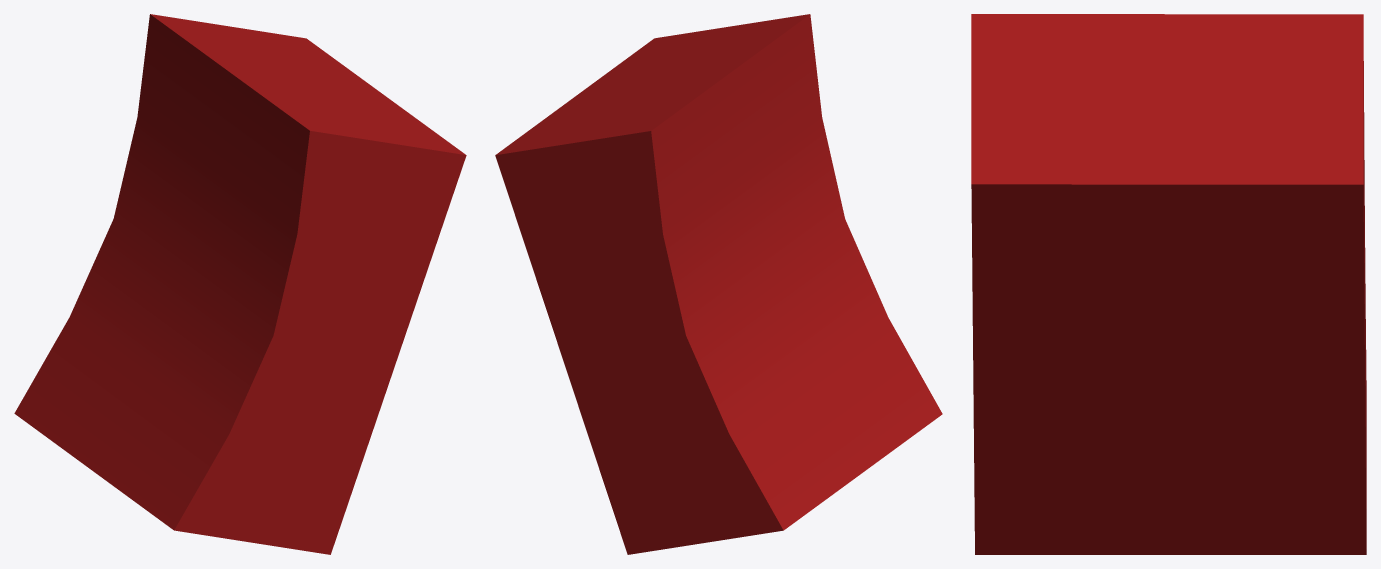
File: knopka2.002_material.010_0_lev1.glb
3 views of the same model, side by side, from view 1: azimuth 30°, elevation 25°; view 2: azimuth 150°, elevation 25°; view 3: azimuth 270°, elevation 25° (orthographic). The views are drawn at different scales.
Parts seen in each view (by area): view 1: knopka2.002_material.010_0_lev1; view 2: knopka2.002_material.010_0_lev1; view 3: knopka2.002_material.010_0_lev1.
Part boxes in pixels (left/top/right/bottom): knopka2.002_material.010_0_lev1: left=14, top=14, right=466, bottom=554; knopka2.002_material.010_0_lev1: left=495, top=14, right=942, bottom=554; knopka2.002_material.010_0_lev1: left=971, top=14, right=1366, bottom=554.
Size of the model in its own units: 2.35 by 3.33 by 2.26.
